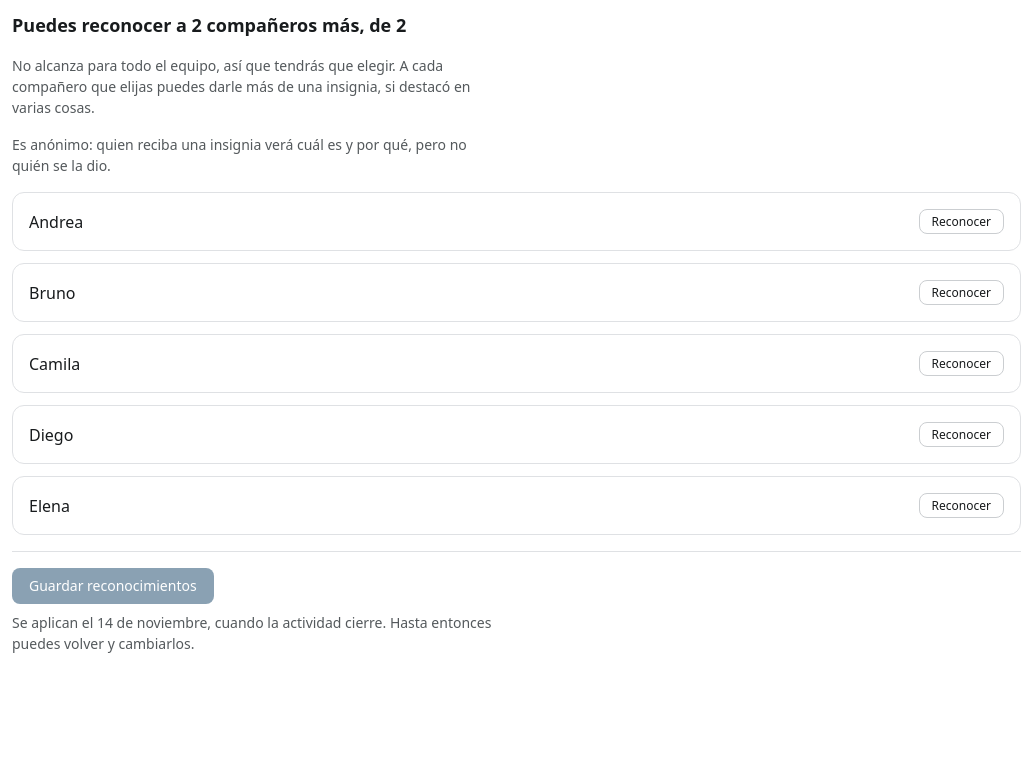
Test: RitualReconocimiento › descuenta del presupuesto al reconocer y lo devuelve al quitar
What coordinates should you click on to do the following:
click the button with aria-label "Reconocer a "
I would click on:
 (961, 222)
Its box is [919,209,1004,234].
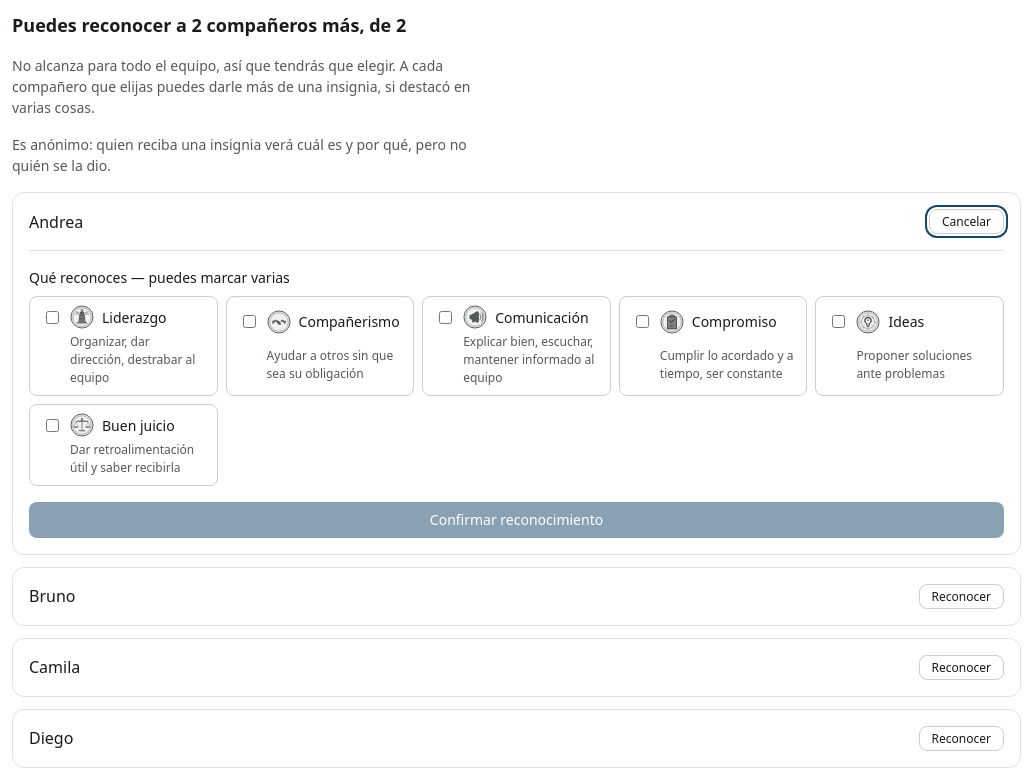
What coordinates should you click on to do the following:
click the checkbox labelled "Liderazgo Organizar, dar dirección, destrabar al equipo"
I would click on:
 (52, 317)
Its box is [46,310,59,324].
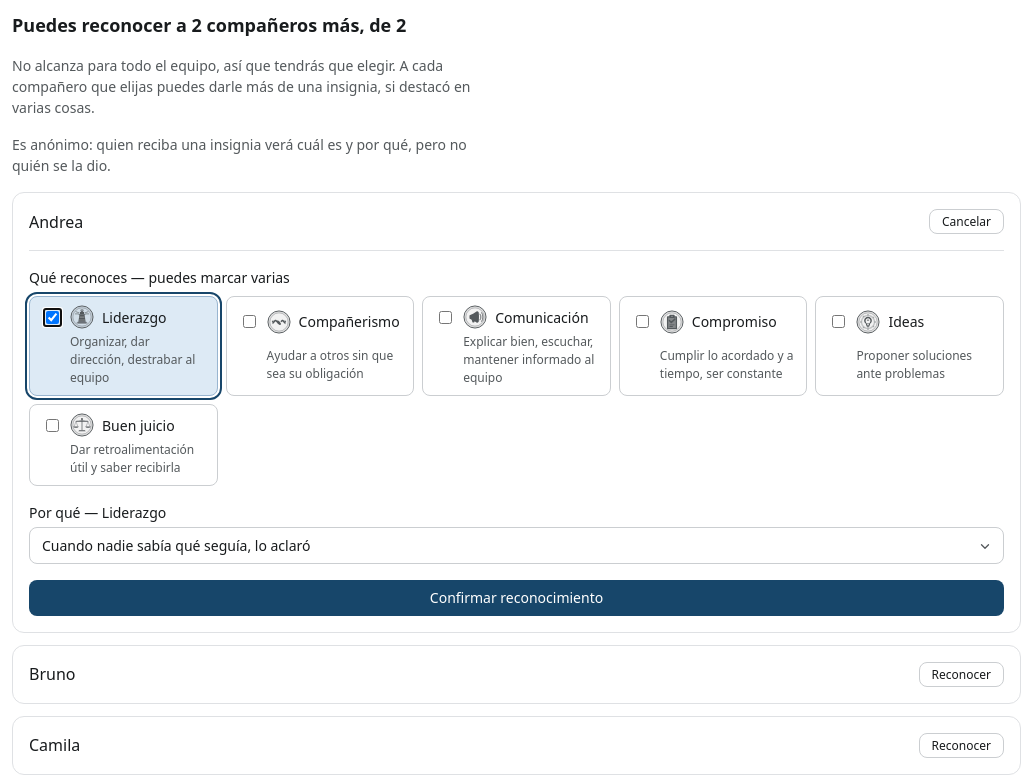
What coordinates should you click on to do the following:
click the button "Confirmar reconocimiento"
I would click on:
 (516, 598)
Its box is [29,580,1004,616].
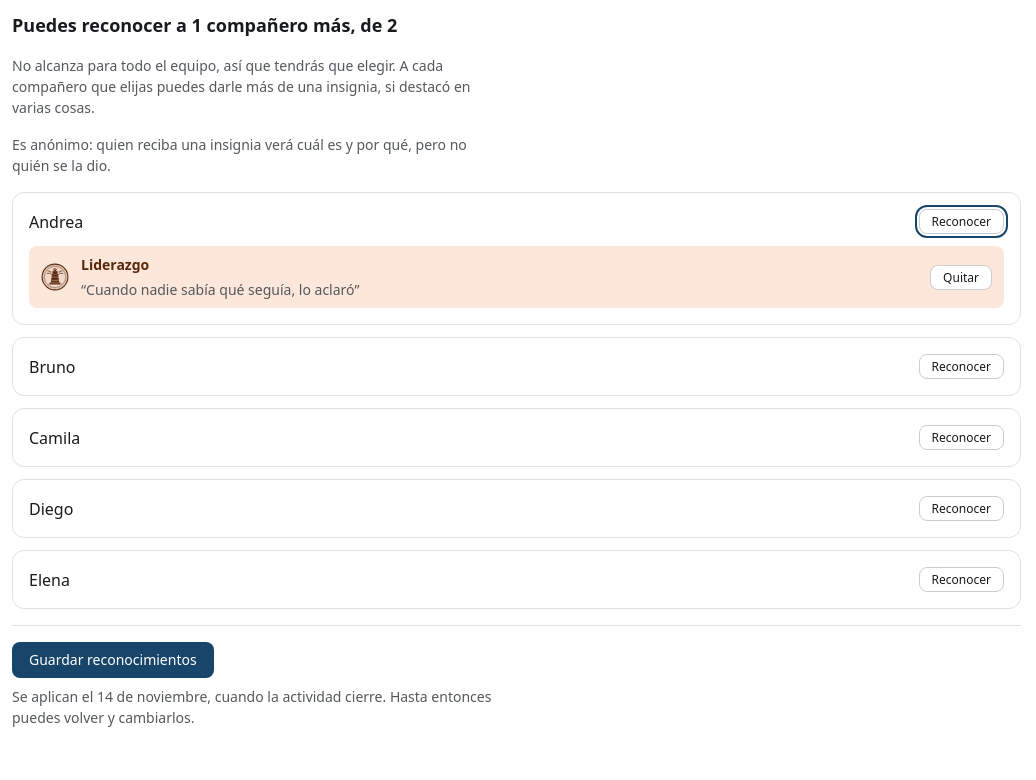
Now the text "Puedes reconocer a 1 compañero más, de 2" is shown, box [12,13,397,37]
What coordinates should you click on to do the following:
click the button "Quitar "
I would click on:
 (961, 277)
Its box is [930,264,992,290].
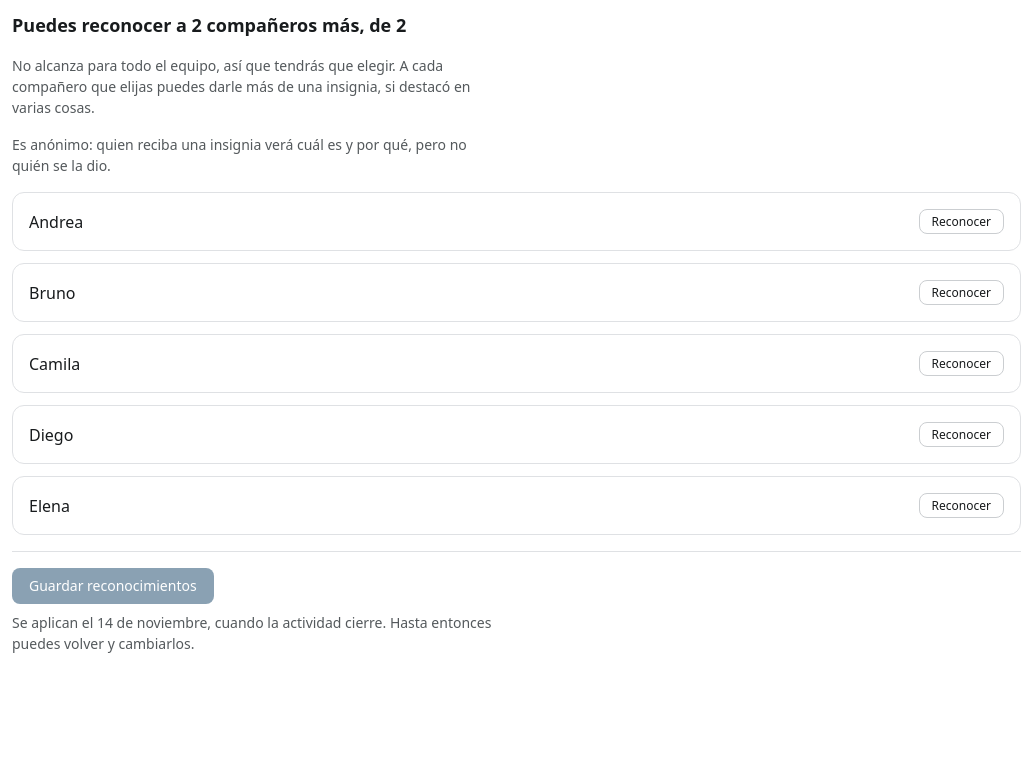
Now the text "Puedes reconocer a 2 compañeros más, de 2" is shown, box [12,13,406,37]
